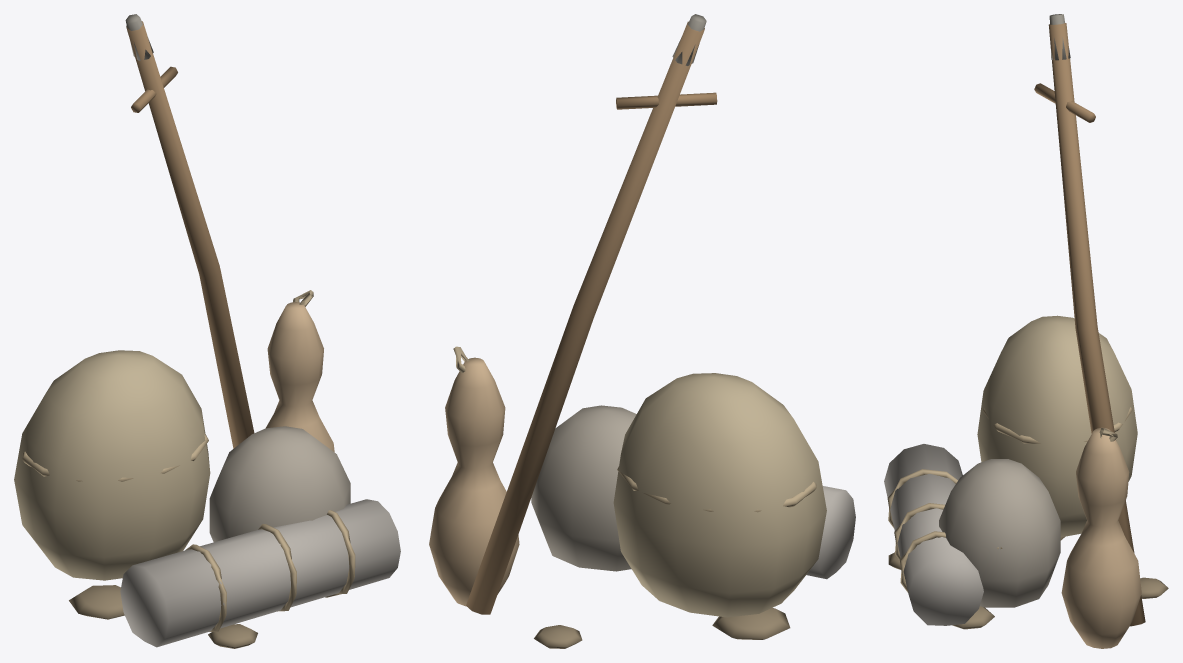
File: pilgrim_bundle.glb
3 views of the same model, side by side, from view 1: azimuth 30°, elevation 25°; view 2: azimuth 150°, elevation 25°; view 3: azimuth 270°, elevation 25° (orthographic). The views are drawn at different scales.
Parts seen in each view (by area): view 1: Bundle_Packs, Bundle_BlanketAssy, Bundle_StaffAssy, Bundle_GourdAssy, Bundle_Mud; view 2: Bundle_Packs, Bundle_StaffAssy, Bundle_GourdAssy, Bundle_BlanketAssy, Bundle_Mud; view 3: Bundle_Packs, Bundle_GourdAssy, Bundle_BlanketAssy, Bundle_StaffAssy, Bundle_Mud.
Boxes of the visible parts, x1,y1,x2,y2 form: Bundle_Packs: (14, 350, 350, 580); Bundle_BlanketAssy: (120, 499, 400, 647); Bundle_StaffAssy: (125, 14, 254, 448); Bundle_GourdAssy: (266, 290, 334, 451); Bundle_Mud: (69, 585, 341, 648); Bundle_Packs: (531, 373, 826, 617); Bundle_StaffAssy: (466, 14, 717, 614); Bundle_GourdAssy: (429, 346, 519, 606); Bundle_BlanketAssy: (806, 486, 855, 579); Bundle_Mud: (534, 608, 790, 648); Bundle_Packs: (939, 315, 1137, 607); Bundle_GourdAssy: (1061, 427, 1141, 648); Bundle_BlanketAssy: (884, 444, 983, 625); Bundle_StaffAssy: (1034, 14, 1145, 626); Bundle_Mud: (888, 536, 1168, 629).
Size of the model in its own units: 0.803 by 1.34 by 0.6397.
